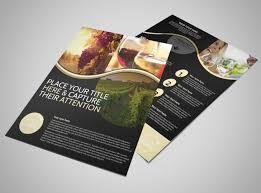Printing industry: (7, 3, 255, 193)
